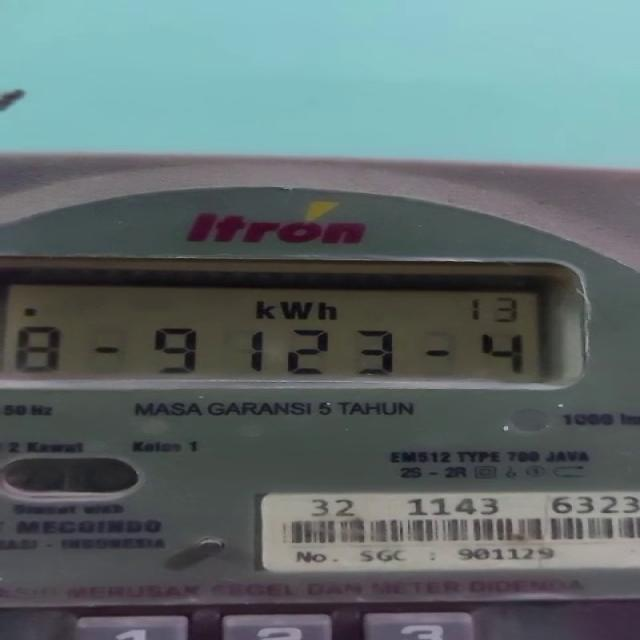LCD: (0, 241, 601, 393)
